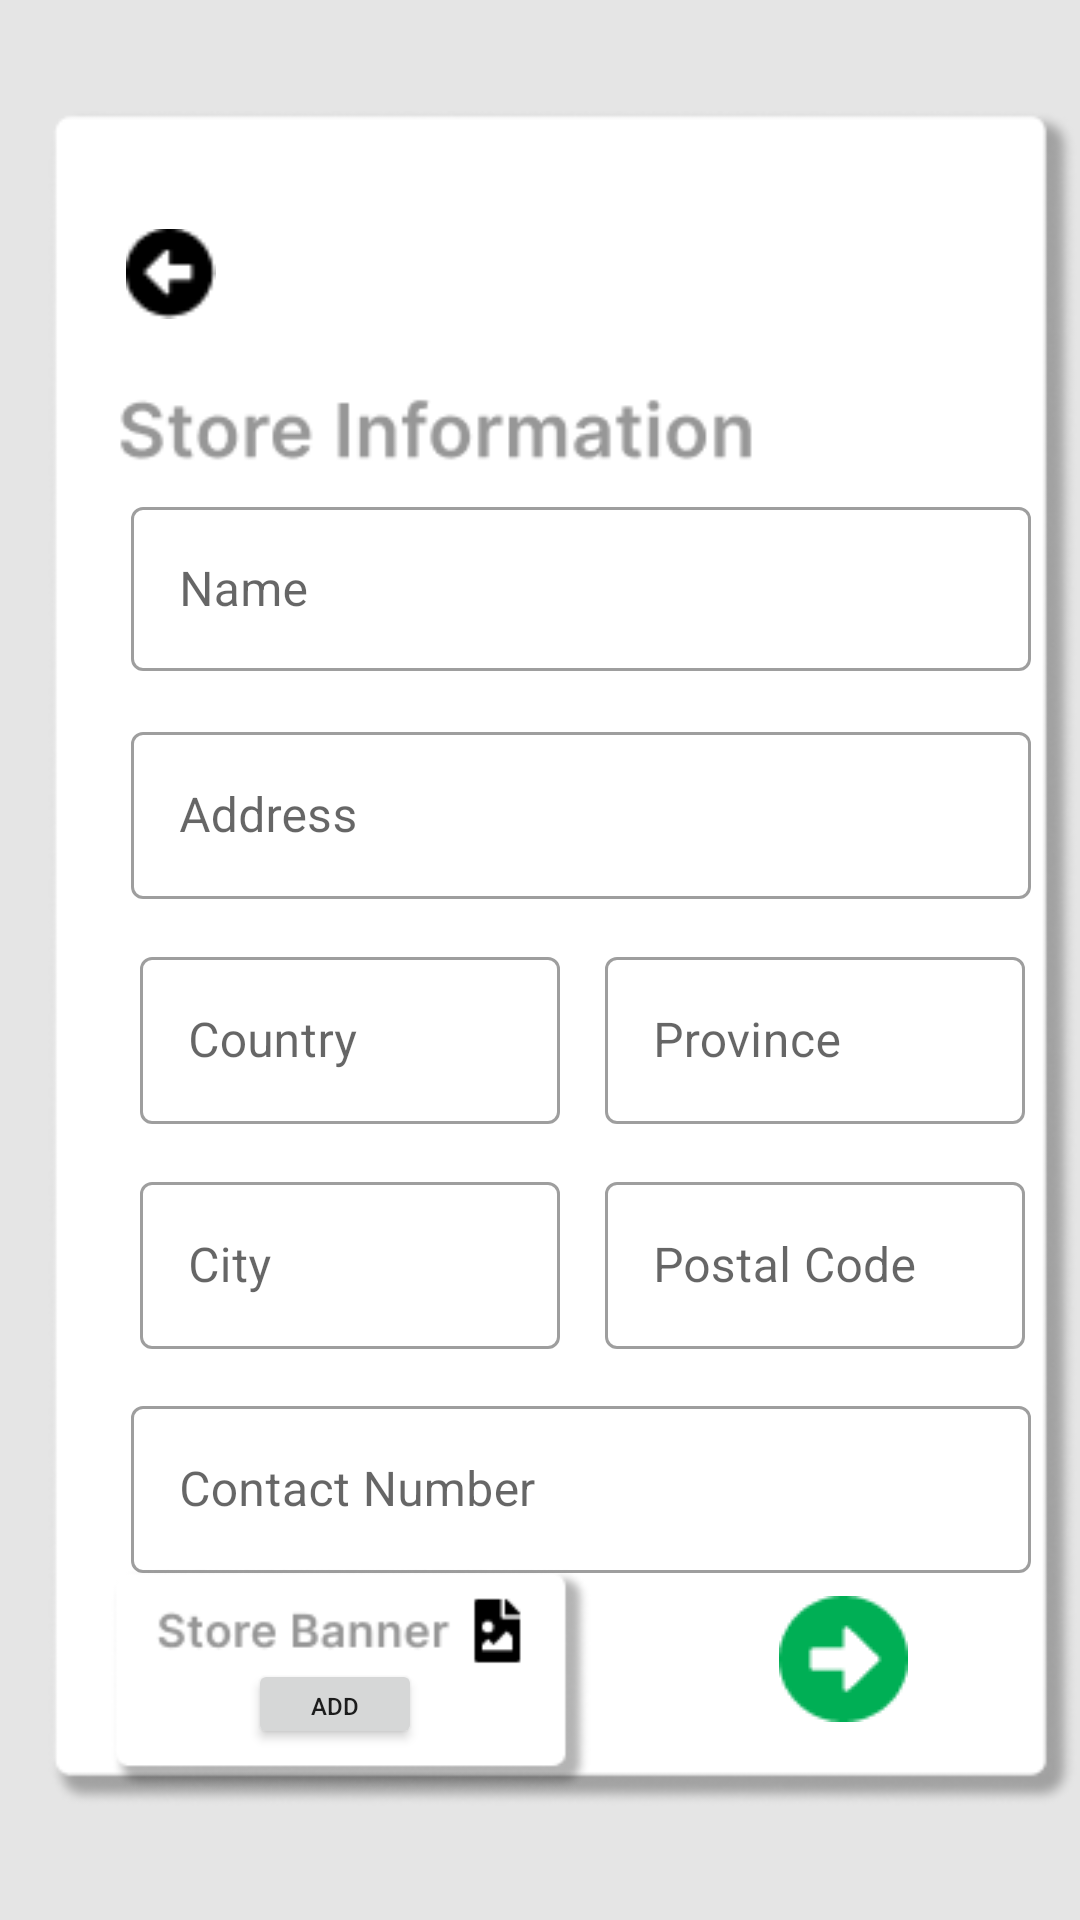

Screen size 1080px x 1920px. Icon name, then its box in pixels as (x1, y1, x2, y2):
proceed: (779, 1596, 908, 1722)
